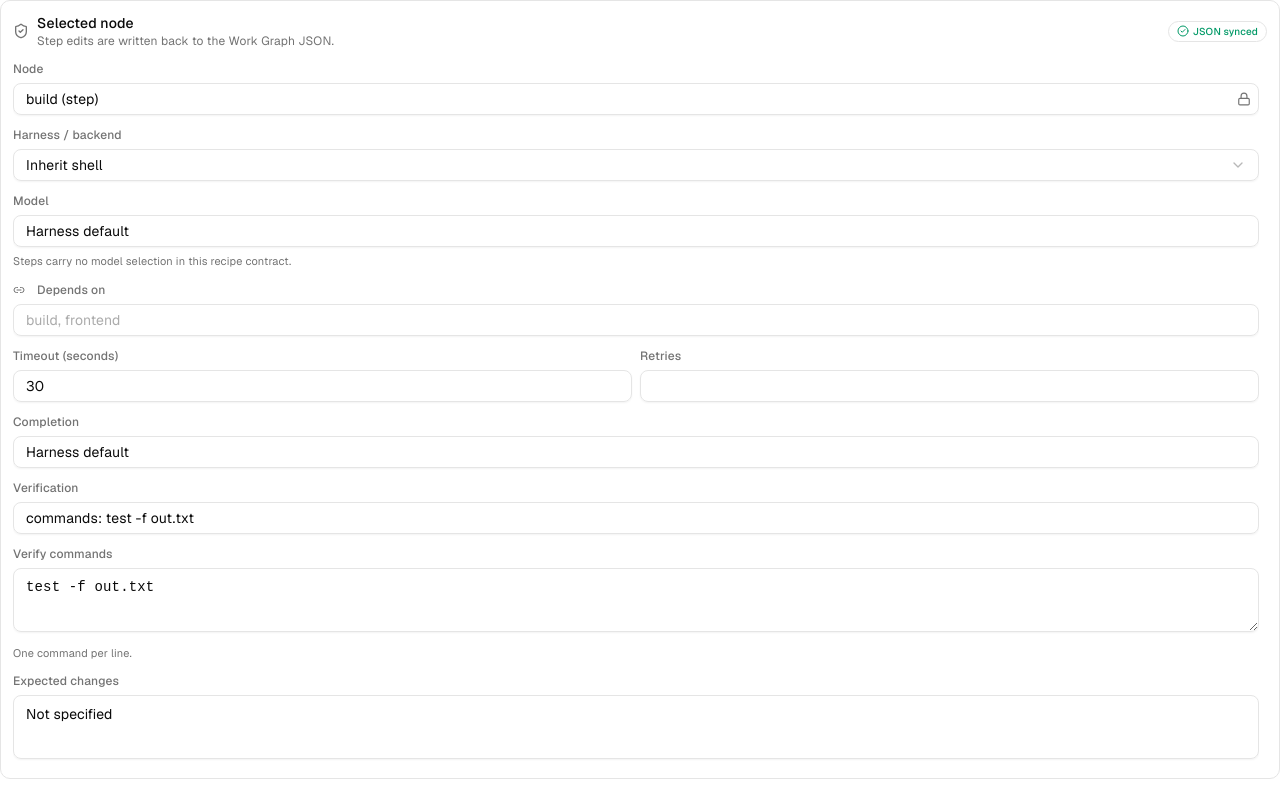
Test: SelectedNodeInspector autosave chip › reads Unsaved edits the moment the in-progress draft diverges
The width and height of the screenshot is (1280, 800).
Replace the text in the field labelled "Timeout (seconds)" with "90" at [322, 386], box [13,370,632,402]
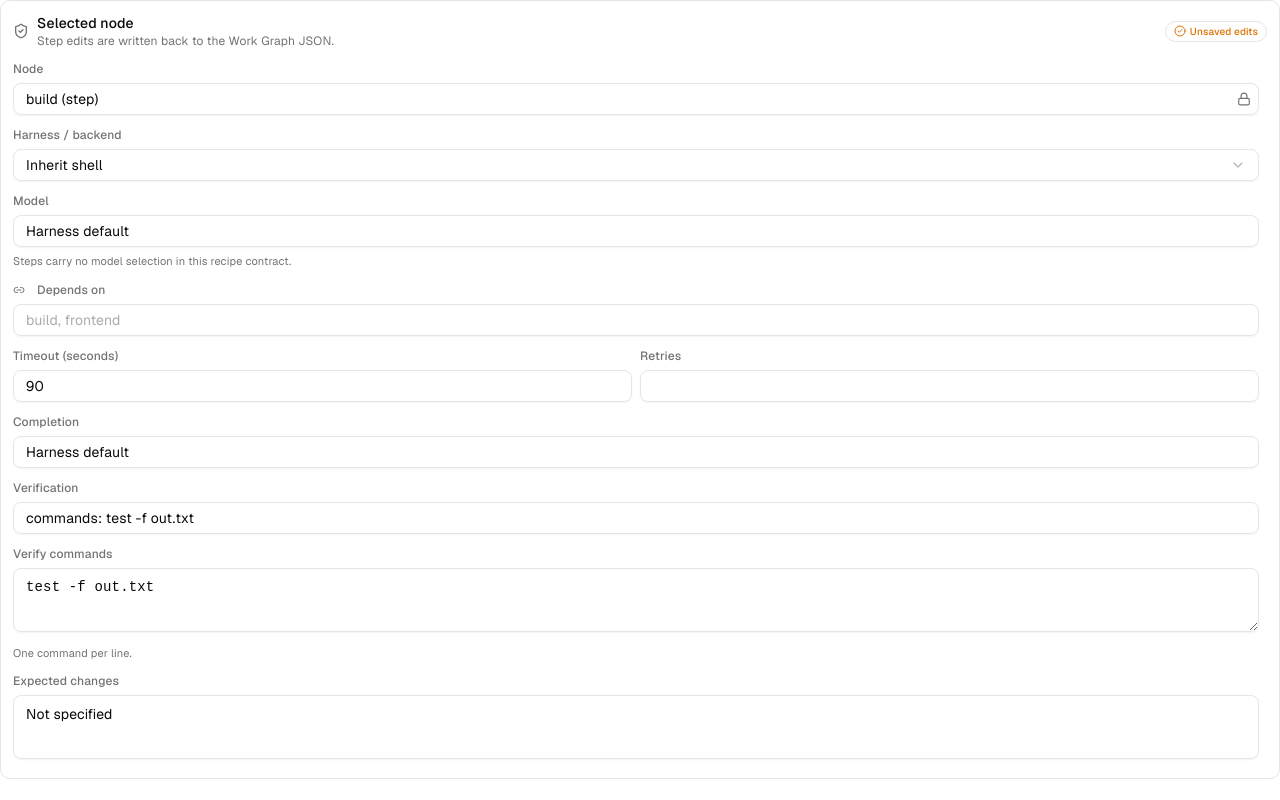
expect the element with test id "mentu-json-sync-chip" reads "Unsaved edits": met, box [1190,24,1258,38]
